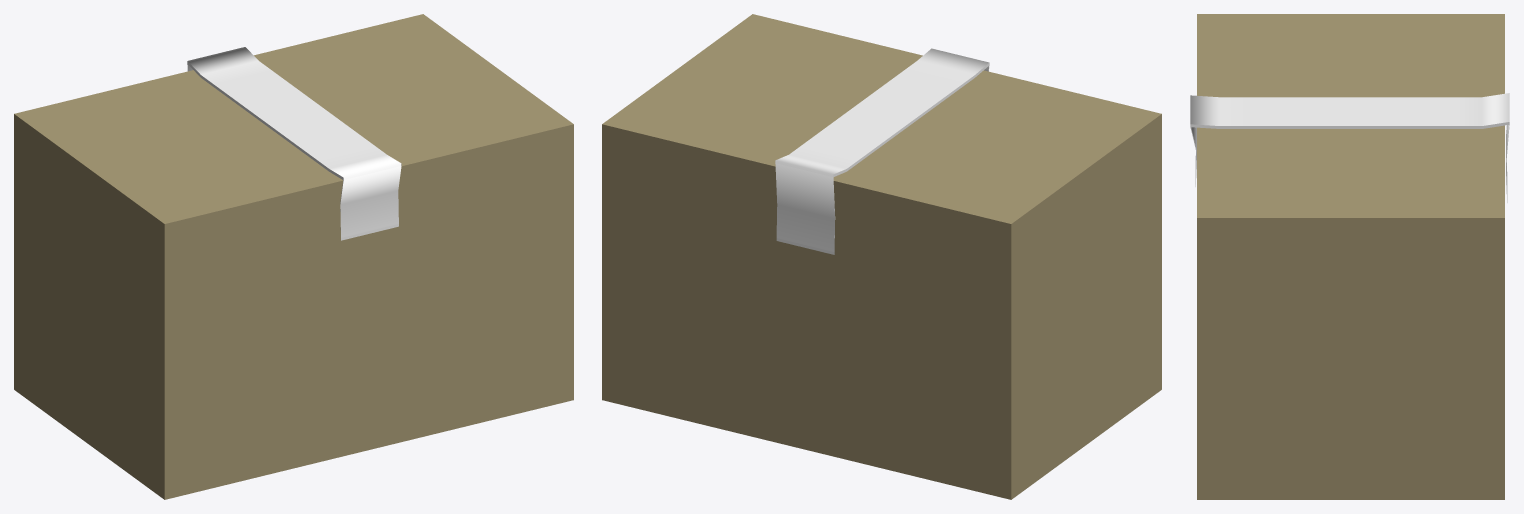
File: PS_CardboardBoxWTape4_!4_DF.fbx
3 views of the same model, side by side, from view 1: azimuth 30°, elevation 25°; view 2: azimuth 150°, elevation 25°; view 3: azimuth 270°, elevation 25° (orthographic). The views are drawn at different scales.
Parts seen in each view (by area): view 1: CardboardBoxWTape4, Tape4; view 2: CardboardBoxWTape4, Tape4; view 3: CardboardBoxWTape4, Tape4.
Boxes of the visible parts, <box> form: CardboardBoxWTape4: <box>14,14,573,499</box>; Tape4: <box>187,47,401,240</box>; CardboardBoxWTape4: <box>602,14,1161,499</box>; Tape4: <box>775,48,989,254</box>; CardboardBoxWTape4: <box>1197,14,1504,499</box>; Tape4: <box>1190,93,1509,202</box>.
Bounding box in the file's own units: 0.4392 × 0.2915 × 0.2903.
